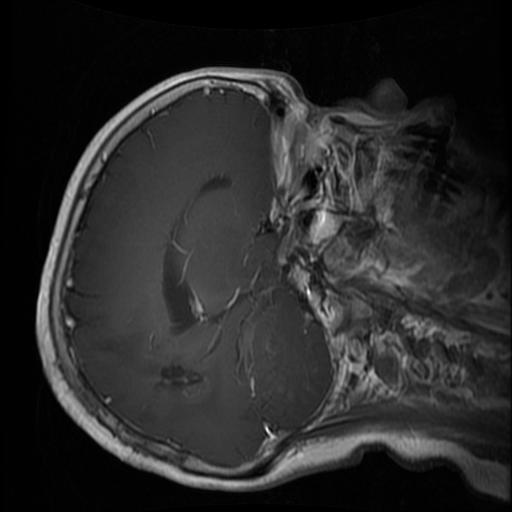glioma: (147, 365, 208, 399)
